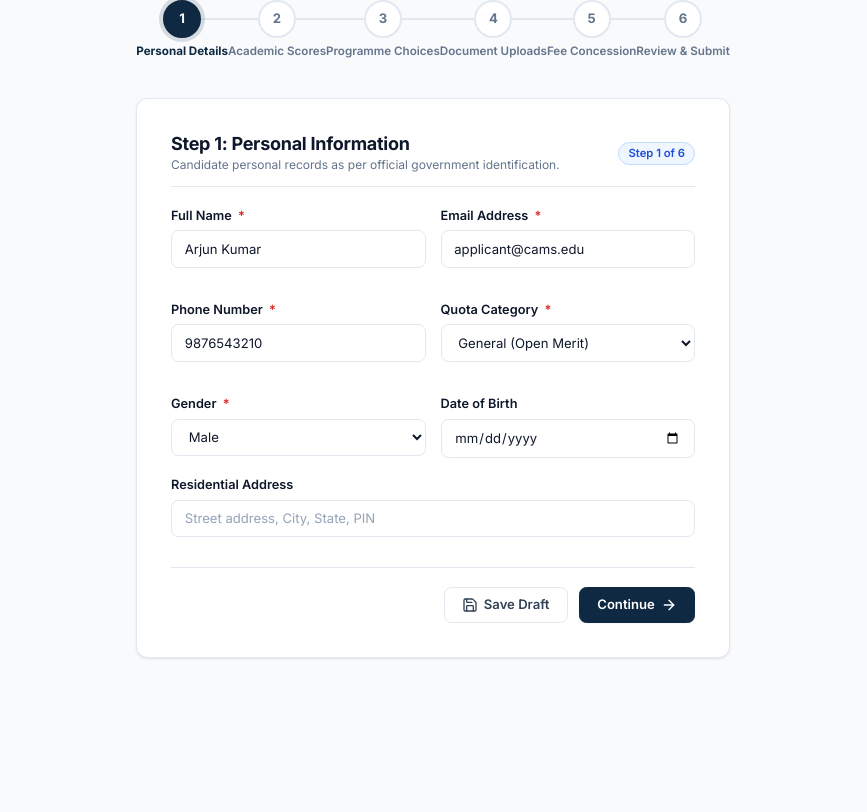
Test: MultiStepApplication 5 Programme Preferences › pre-populates exactly 5 distinct programme preferences and labels priorities
Expected: the text "Step 1 of 6" is shown, left=618, top=142, right=695, bottom=165
// Click Continue
Click the button "Continue": click(637, 605) left=579, top=587, right=695, bottom=623
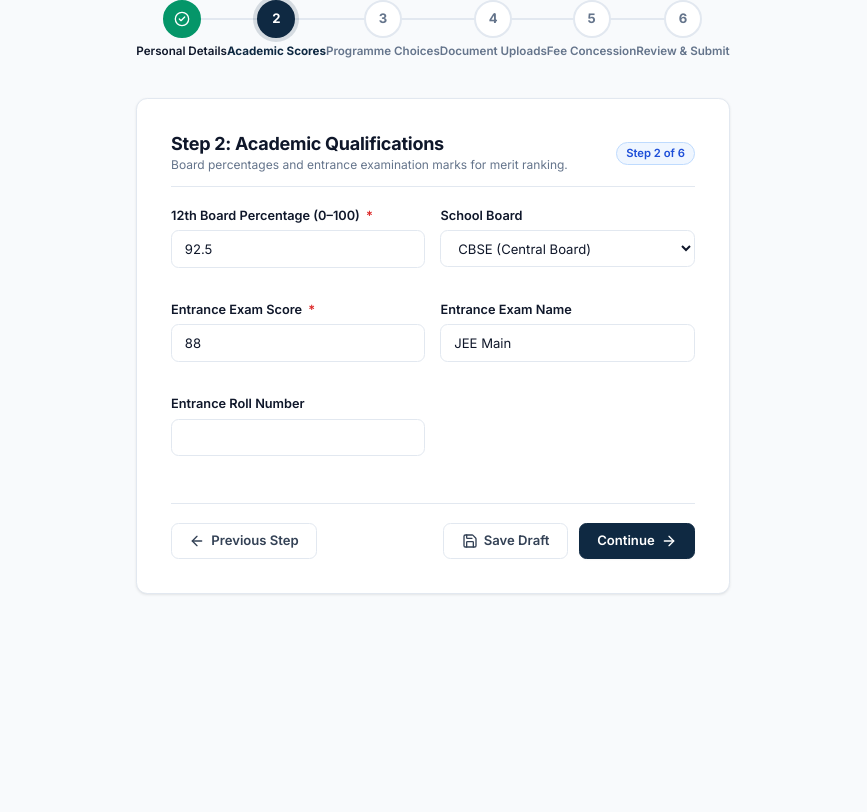
Result: the text "Step 2 of 6" is shown at left=616, top=142, right=695, bottom=165
Click the button "Continue": click(637, 541) left=579, top=523, right=695, bottom=559
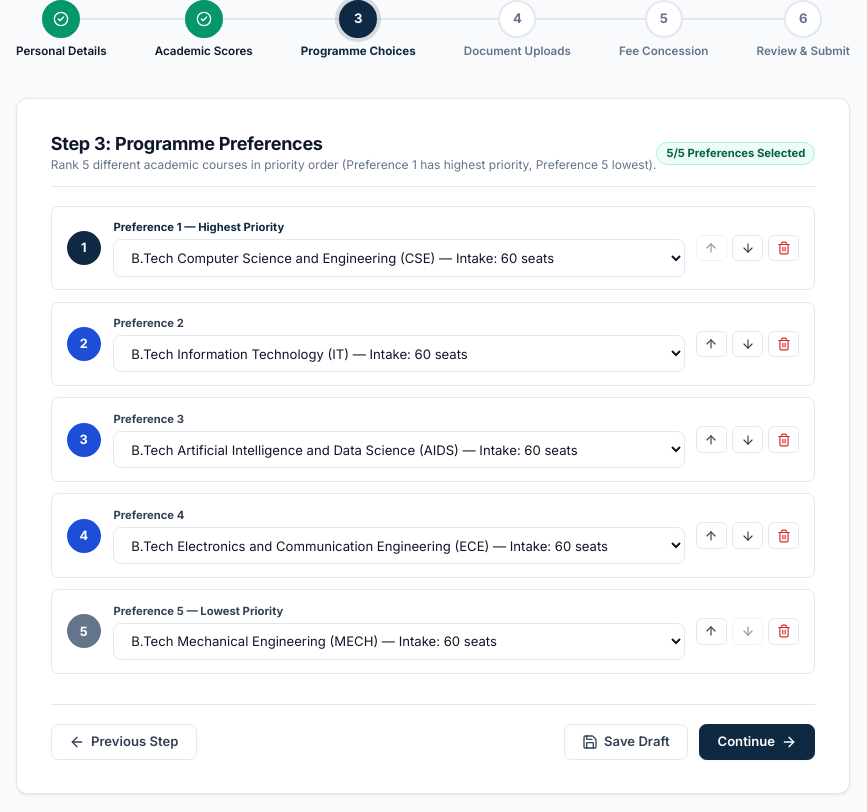
Result: the heading "Step 3: Programme Preferences" is shown at left=51, top=133, right=323, bottom=154
Result: the text "5/5 Preferences Selected" is shown at left=656, top=142, right=815, bottom=165
Result: the text "Preference 1 — Highest Priority" is shown at left=114, top=220, right=284, bottom=234
